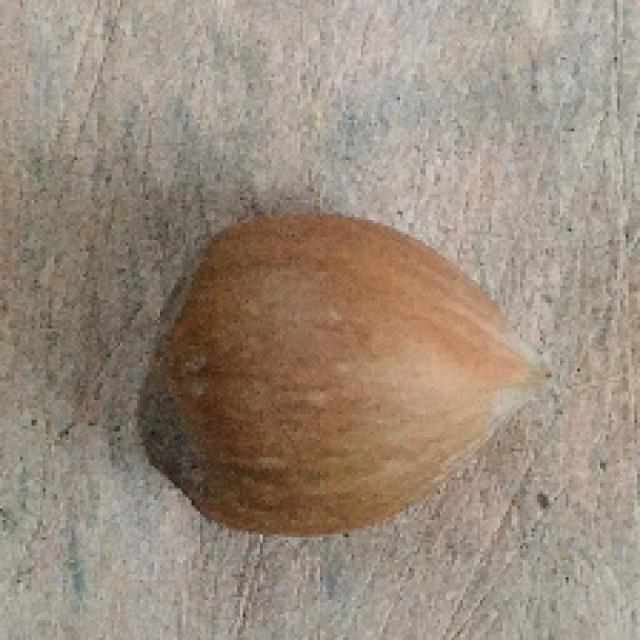DamagedHazelnut: (141, 217, 547, 532)
